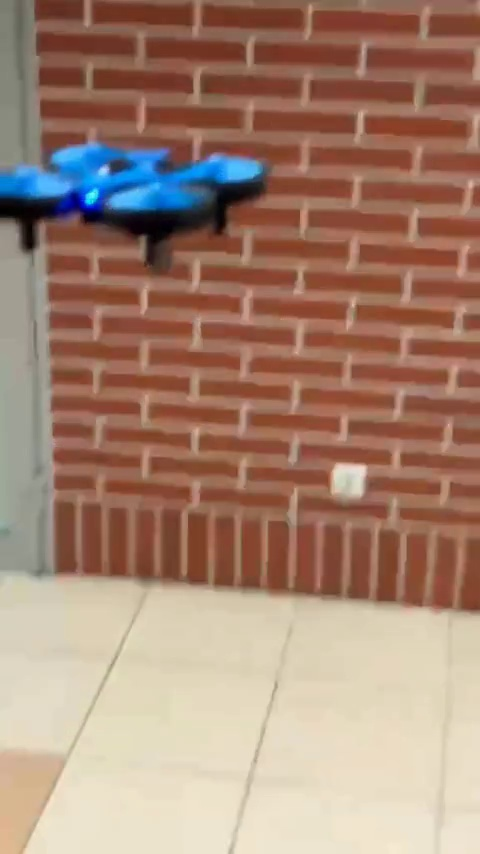drone: (0, 141, 265, 273)
